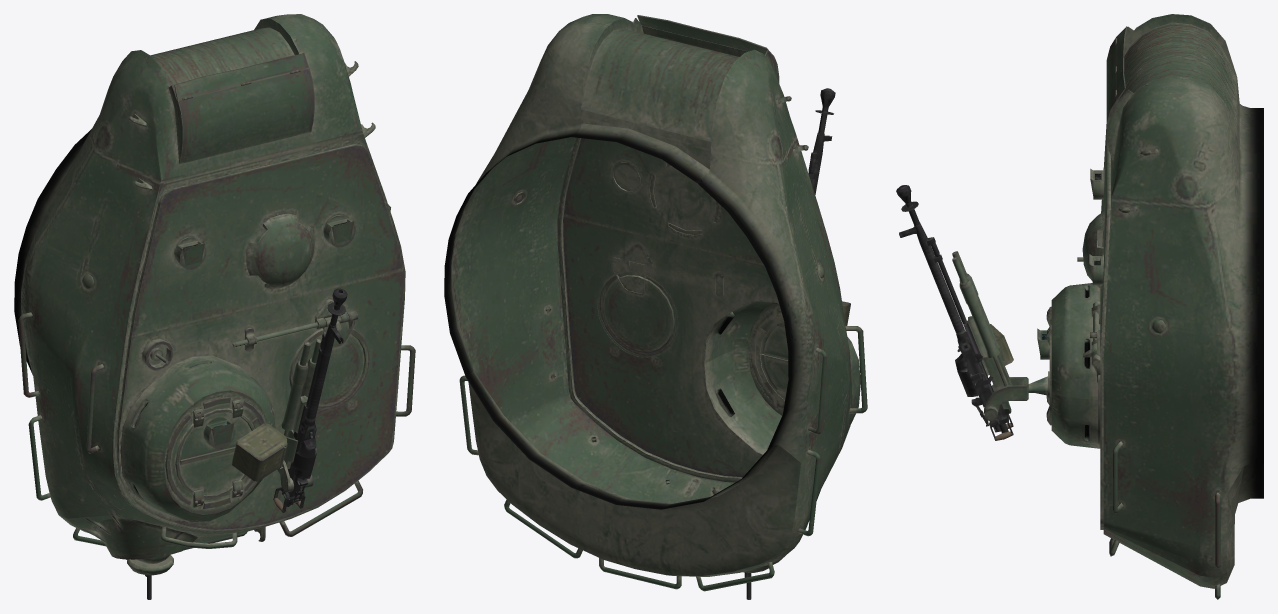
File: Turret_02.glb
3 renders of one model, left to right at view 1: azimuth 30°, elevation 25°; view 2: azimuth 150°, elevation 25°; view 3: azimuth 270°, elevation 25°, orthographic. The views are drawn at different scales.
Visible parts, largest first — view 1: set_0_group_0; view 2: set_0_group_0; view 3: set_0_group_0.
Boxes of the visible parts, x1=… form: set_0_group_0: x1=14, y1=14, x2=415, y2=599; set_0_group_0: x1=444, y1=14, x2=867, y2=599; set_0_group_0: x1=896, y1=14, x2=1263, y2=599.
Bounding box in the file's own units: 2.31 × 3.27 × 2.04.
Materials: 1 (1 with a texture image).
